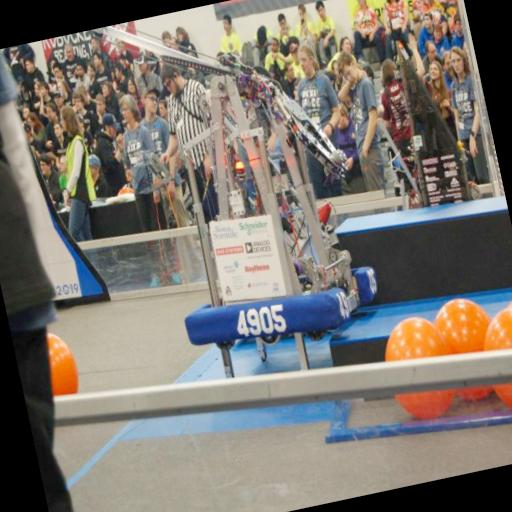robot: (130, 39, 386, 364)
